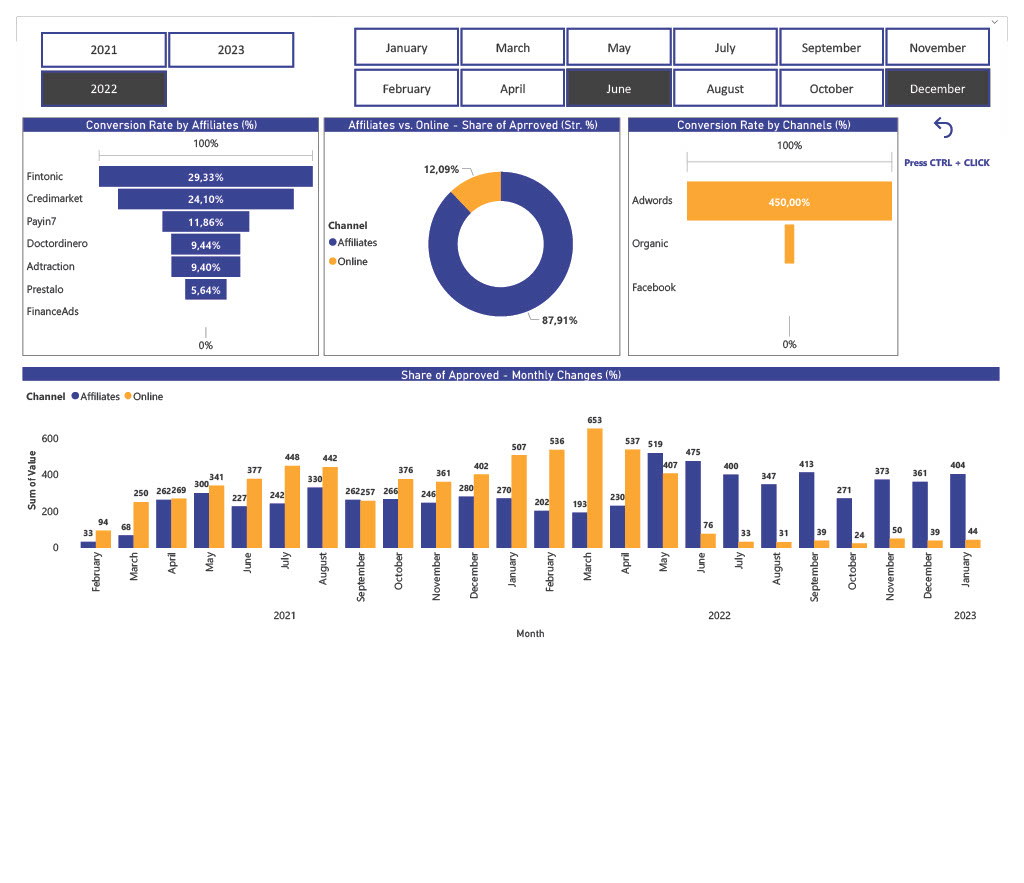

This screenshot's page, from the dashboard's own definition file:
{"tool":"powerbi","page":{"name":"Digital Channels","canvas":[1400,1200],"ordinal":10},"visuals":[{"type":"group","id":"g1","title":"Group 1","box":[7.6,0,1392.4,133.6],"z":0},{"type":"slicer","fields":{"Values":["CalendarTable.Date.Variation.Date Hierarchy.Year"]},"box":[7.6,0,408.4,133.6],"z":0,"group":"g1"},{"type":"funnel","title":"Conversion Rate by Affiliates (%)","fields":{"Y":["Sum(ConvertionRateChannelsAffiliates.Fintonic)","Sum(ConvertionRateChannelsAffiliates.Credimarket)","Sum(ConvertionRateChannelsAffiliates.Doctordinero)","Sum(ConvertionRateChannelsAffiliates.Adtraction)","Sum(ConvertionRateChannelsAffiliates.Prestalo)","Sum(ConvertionRateChannelsAffiliates.FinanceAds)","Sum(ConvertionRateChannelsAffiliates.Payin7)"]},"box":[7.7,142.2,418.9,336.9],"z":0,"group":"g2"},{"type":"slicer","fields":{"Values":["CalendarTable.Date.Variation.Date Hierarchy.Month"]},"box":[450.7,0,949.3,133.6],"z":1000,"group":"g1"},{"type":"funnel","title":"Conversion Rate by Channels (%)","fields":{"Y":["Sum(ConvertionRateChannelsOnline.Organic)","Sum(ConvertionRateChannelsOnline.Adwords)","Sum(ConvertionRateChannelsOnline.Facebook)"]},"box":[864,142.2,381.8,336.9],"z":1000,"group":"g2"},{"type":"clusteredColumnChart","title":"Share of Approved - Monthly Changes (%)","fields":{"Category":["CalendarTable.Date.Variation.Date Hierarchy.Year","CalendarTable.Date.Variation.Date Hierarchy.Month"],"Y":["Sum(ShareOfApprove.Affiliates )","Sum(ShareOfApprove.Online )"]},"box":[7.7,494.6,1381.8,389.5],"z":1000},{"type":"donutChart","title":"Affiliates vs. Online - Share of Approved (Str. %)","fields":{"Y":["Sum(ShareOfApprove.Affiliates )","Sum(ShareOfApprove.Online )"]},"box":[433.3,142.3,422.5,336.7],"z":2000,"group":"g2"},{"type":"textbox","box":[1245.8,191.2,143.4,40.2],"z":2000},{"type":"actionButton","box":[1290.3,135.8,53.2,40.2],"z":3000},{"type":"group","id":"g2","title":"Group 2","box":[7.7,142.2,1238,336.9],"z":5002}]}

Visuals, with their boxes in screenshot pixels (x1, y1, x2, y2), scaled from the page's 1400x1200 canvas onto the 1024x883 screenshot:
"Group 1" group: [6, 0, 1023, 98]
slicer - CalendarTable.Date.Variation.Date Hierarchy.Year: [6, 0, 304, 98]
"Conversion Rate by Affiliates (%)" funnel: [6, 105, 312, 353]
slicer - CalendarTable.Date.Variation.Date Hierarchy.Month: [330, 0, 1023, 98]
"Conversion Rate by Channels (%)" funnel: [632, 105, 911, 353]
"Share of Approved - Monthly Changes (%)" clusteredColumnChart: [6, 364, 1016, 651]
"Affiliates vs. Online - Share of Approved (Str. %)" donutChart: [317, 105, 626, 352]
textbox: [911, 141, 1016, 170]
actionButton: [944, 100, 983, 130]
"Group 2" group: [6, 105, 911, 353]
